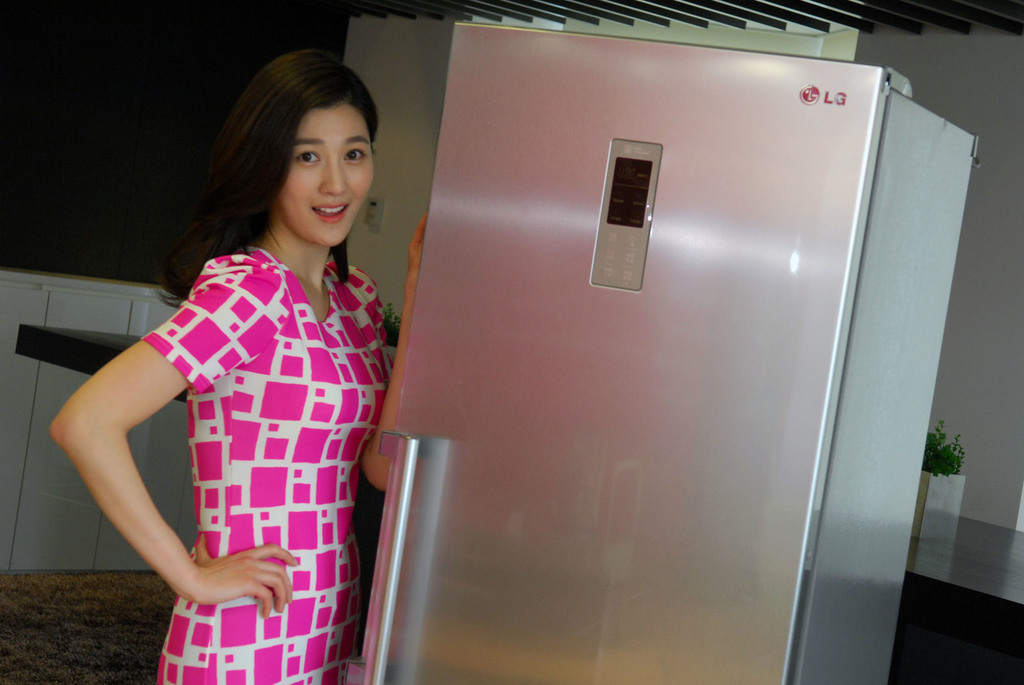handle: (362, 432, 418, 685)
refrigerator door: (451, 30, 806, 685)
